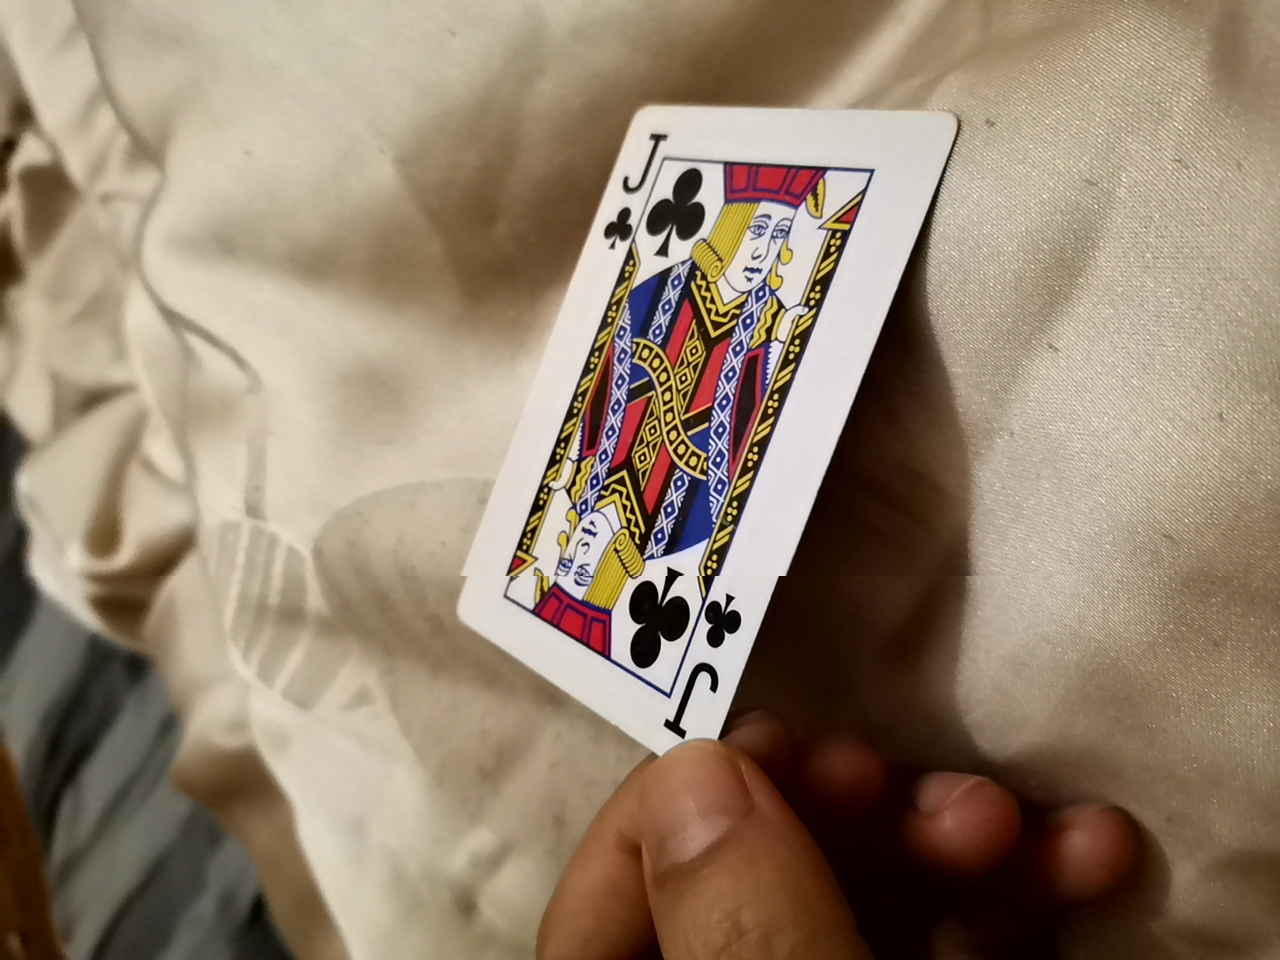mh j: (429, 96, 938, 773)
